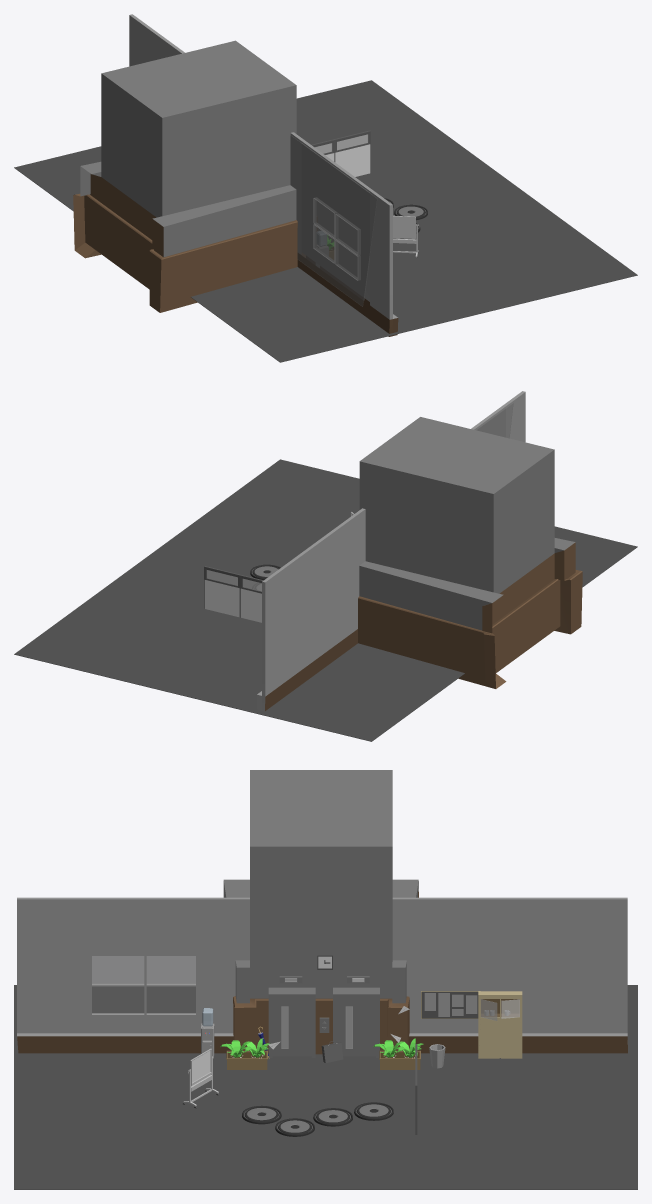
The model's file is BVA.fbx.
3 renders of one model, top to bottom at view 1: azimuth 30°, elevation 25°; view 2: azimuth 150°, elevation 25°; view 3: azimuth 270°, elevation 25°, orthographic. The views are drawn at different scales.
Visible parts, largest first — view 1: pCube413, pCube7, pCube2, pCube412, Office_assets_13:pCube268, Office_assets_5:pCube141; view 2: pCube413, pCube7, pCube2, Office_assets_13:pCube268, Office_assets_13:pCube269, pCube412; view 3: pCube413, pCube2, pCube7, pCube412, pCube8, pCube414, Office_assets_8:pasted__pCube271, pasted__pasted__pCube126 (×2), Office_assets_4:pasted__pCube292, pCylinder98, pCylinder99, pCylinder100 (+1 smaller).
Boxes of the visible parts, <box> form: pCube413: <box>14,80,637,362</box>; pCube7: <box>73,40,317,312</box>; pCube2: <box>129,14,398,336</box>; pCube412: <box>290,135,377,306</box>; Office_assets_13:pCube268: <box>334,130,370,176</box>; Office_assets_5:pCube141: <box>393,215,415,238</box>; pCube413: <box>14,459,637,741</box>; pCube7: <box>358,417,582,688</box>; pCube2: <box>256,391,525,711</box>; Office_assets_13:pCube268: <box>204,566,240,617</box>; Office_assets_13:pCube269: <box>239,575,263,622</box>; pCube412: <box>475,403,513,438</box>; pCube413: <box>14,985,637,1189</box>; pCube2: <box>17,897,627,1053</box>; pCube7: <box>223,770,418,1054</box>; pCube412: <box>92,956,195,1013</box>; pCube8: <box>268,987,315,1057</box>; pCube414: <box>333,987,379,1057</box>; Office_assets_8:pasted__pCube271: <box>478,991,522,1058</box>; pasted__pasted__pCube126 (×2): <box>226,1050,420,1069</box>; Office_assets_4:pasted__pCube292: <box>421,991,480,1018</box>; pCylinder98: <box>275,1118,314,1136</box>; pCylinder99: <box>313,1108,352,1126</box>; pCylinder100: <box>354,1102,393,1120</box>.
Bounding box in the file's own units: 0.4561 × 0.2064 × 0.5399.
